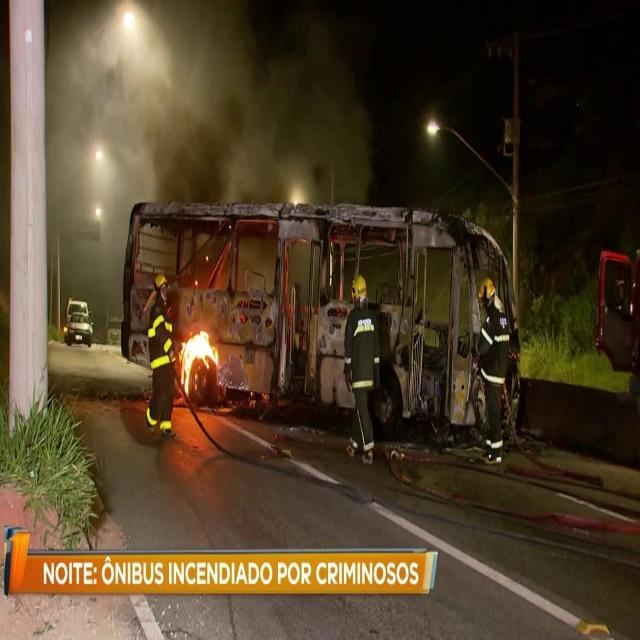Fire: (176, 327, 220, 396)
